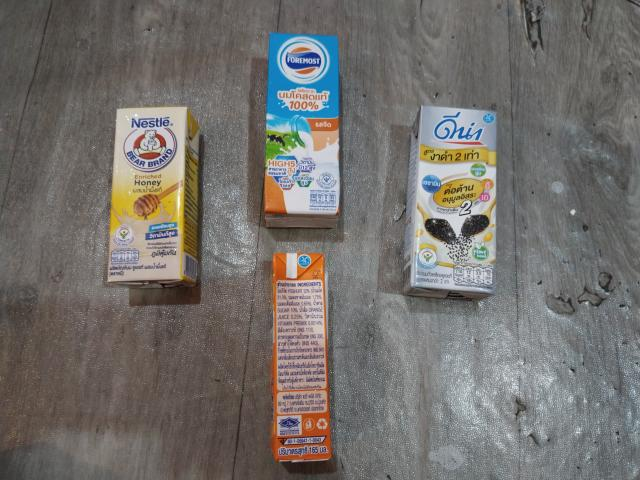drink_box: (409, 105, 500, 302), (268, 253, 348, 475), (111, 103, 202, 286), (262, 29, 342, 227)
